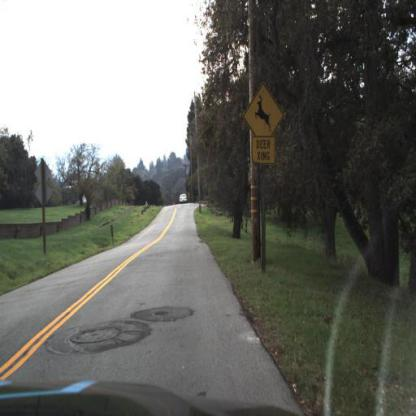car: (176, 191, 190, 208)
